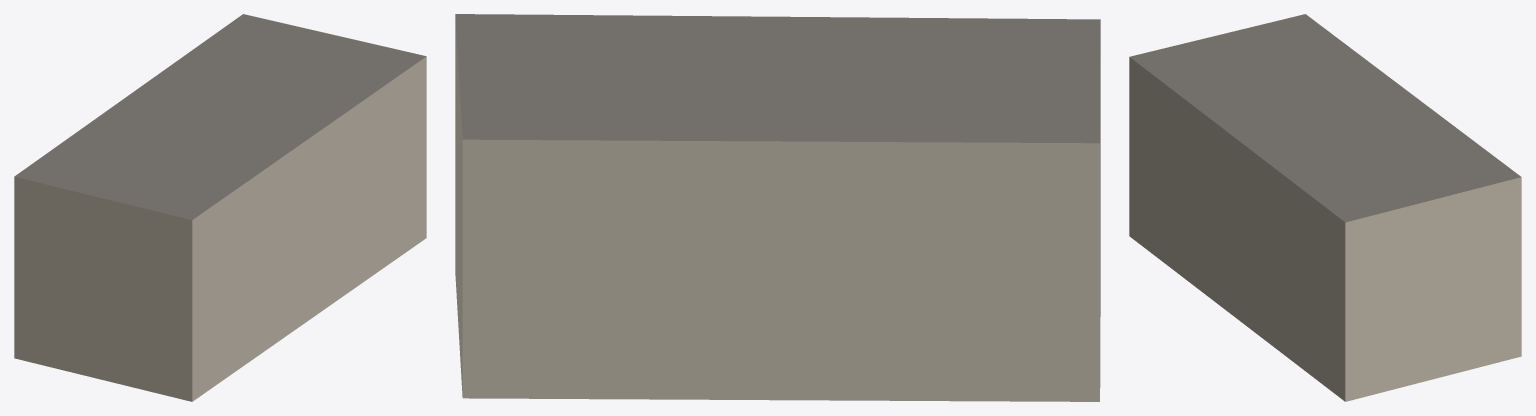
3 renders of one model, left to right at view 1: azimuth 30°, elevation 25°; view 2: azimuth 150°, elevation 25°; view 3: azimuth 270°, elevation 25°, orthographic. The views are drawn at different scales.
Parts seen in each view (by area): view 1: HP-w505633408; view 2: HP-w505633408; view 3: HP-w505633408.
Part boxes in pixels (bbox=[...]): HP-w505633408: bbox=[14, 14, 426, 401]; HP-w505633408: bbox=[455, 14, 1100, 401]; HP-w505633408: bbox=[1129, 14, 1521, 401].
Bounding box in the file's own units: 29.9 × 12 × 23.77.
